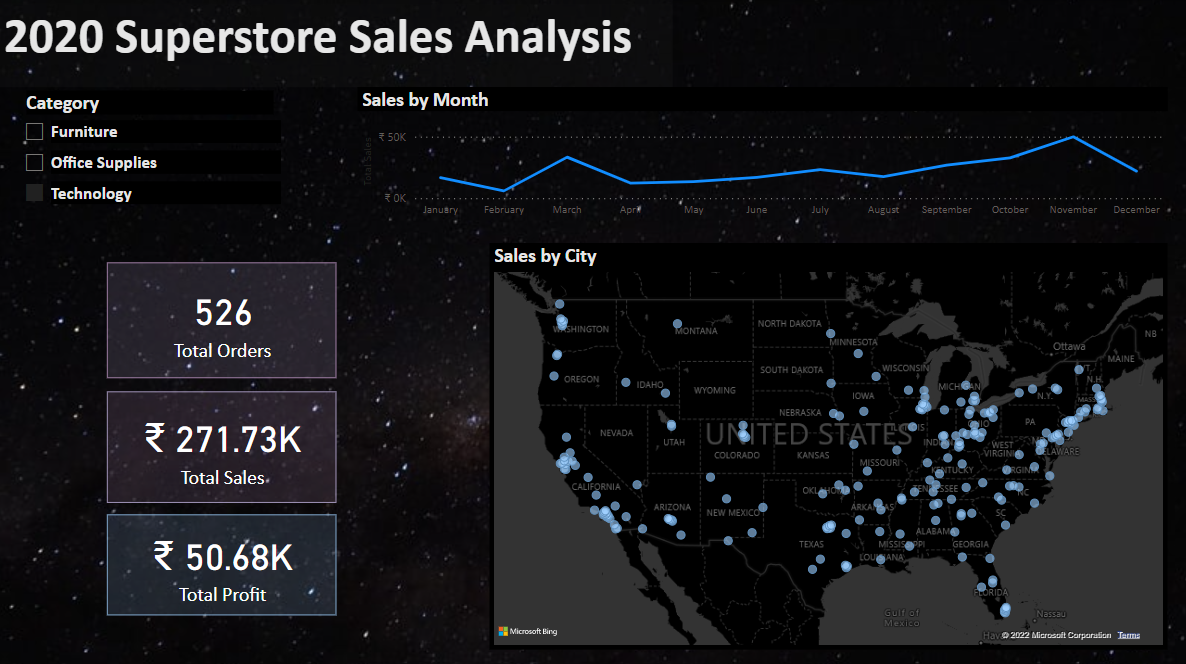

The dashboard page shown, as its layout file describes it:
{"tool":"powerbi","page":{"name":"Page 1","canvas":[1280,720],"ordinal":0},"visuals":[{"type":"card","fields":{"Values":["Orders.Total Orders"]},"box":[116.5,283.1,247.6,124.6],"z":0},{"type":"card","fields":{"Values":["Orders.Total Sales"]},"box":[116.5,422.3,247.6,119.7],"z":1000},{"type":"card","fields":{"Values":["Orders.Total Profit"]},"box":[116.5,555,247.6,108.4],"z":2000},{"type":"map","title":"Sales by City","fields":{"Y":["Orders.Latitude"],"X":["Orders.Longitude"]},"box":[529.1,262.1,731.3,438.5],"z":3000},{"type":"textbox","box":[0,0,726.5,93.8],"z":4000},{"type":"lineChart","title":"Sales by Month","fields":{"Y":["Orders.Total Sales"],"Category":["Date.Month Name"]},"box":[386.7,93.8,873.7,148.9],"z":5000},{"type":"slicer","fields":{"Values":["Orders.category"]},"box":[16.2,92.2,292.9,150.5],"z":6000}]}

Visuals, with their boxes in screenshot pixels (x1, y1, x2, y2), scaled from the page's 1280x720 canvas onto the 1186x664 screenshot:
card - Orders.Total Orders: {"x1": 108, "y1": 261, "x2": 337, "y2": 376}
card - Orders.Total Sales: {"x1": 108, "y1": 389, "x2": 337, "y2": 500}
card - Orders.Total Profit: {"x1": 108, "y1": 512, "x2": 337, "y2": 612}
"Sales by City" map: {"x1": 490, "y1": 242, "x2": 1168, "y2": 646}
textbox: {"x1": 0, "y1": 0, "x2": 673, "y2": 87}
"Sales by Month" lineChart: {"x1": 358, "y1": 87, "x2": 1168, "y2": 224}
slicer - Orders.category: {"x1": 15, "y1": 85, "x2": 286, "y2": 224}
